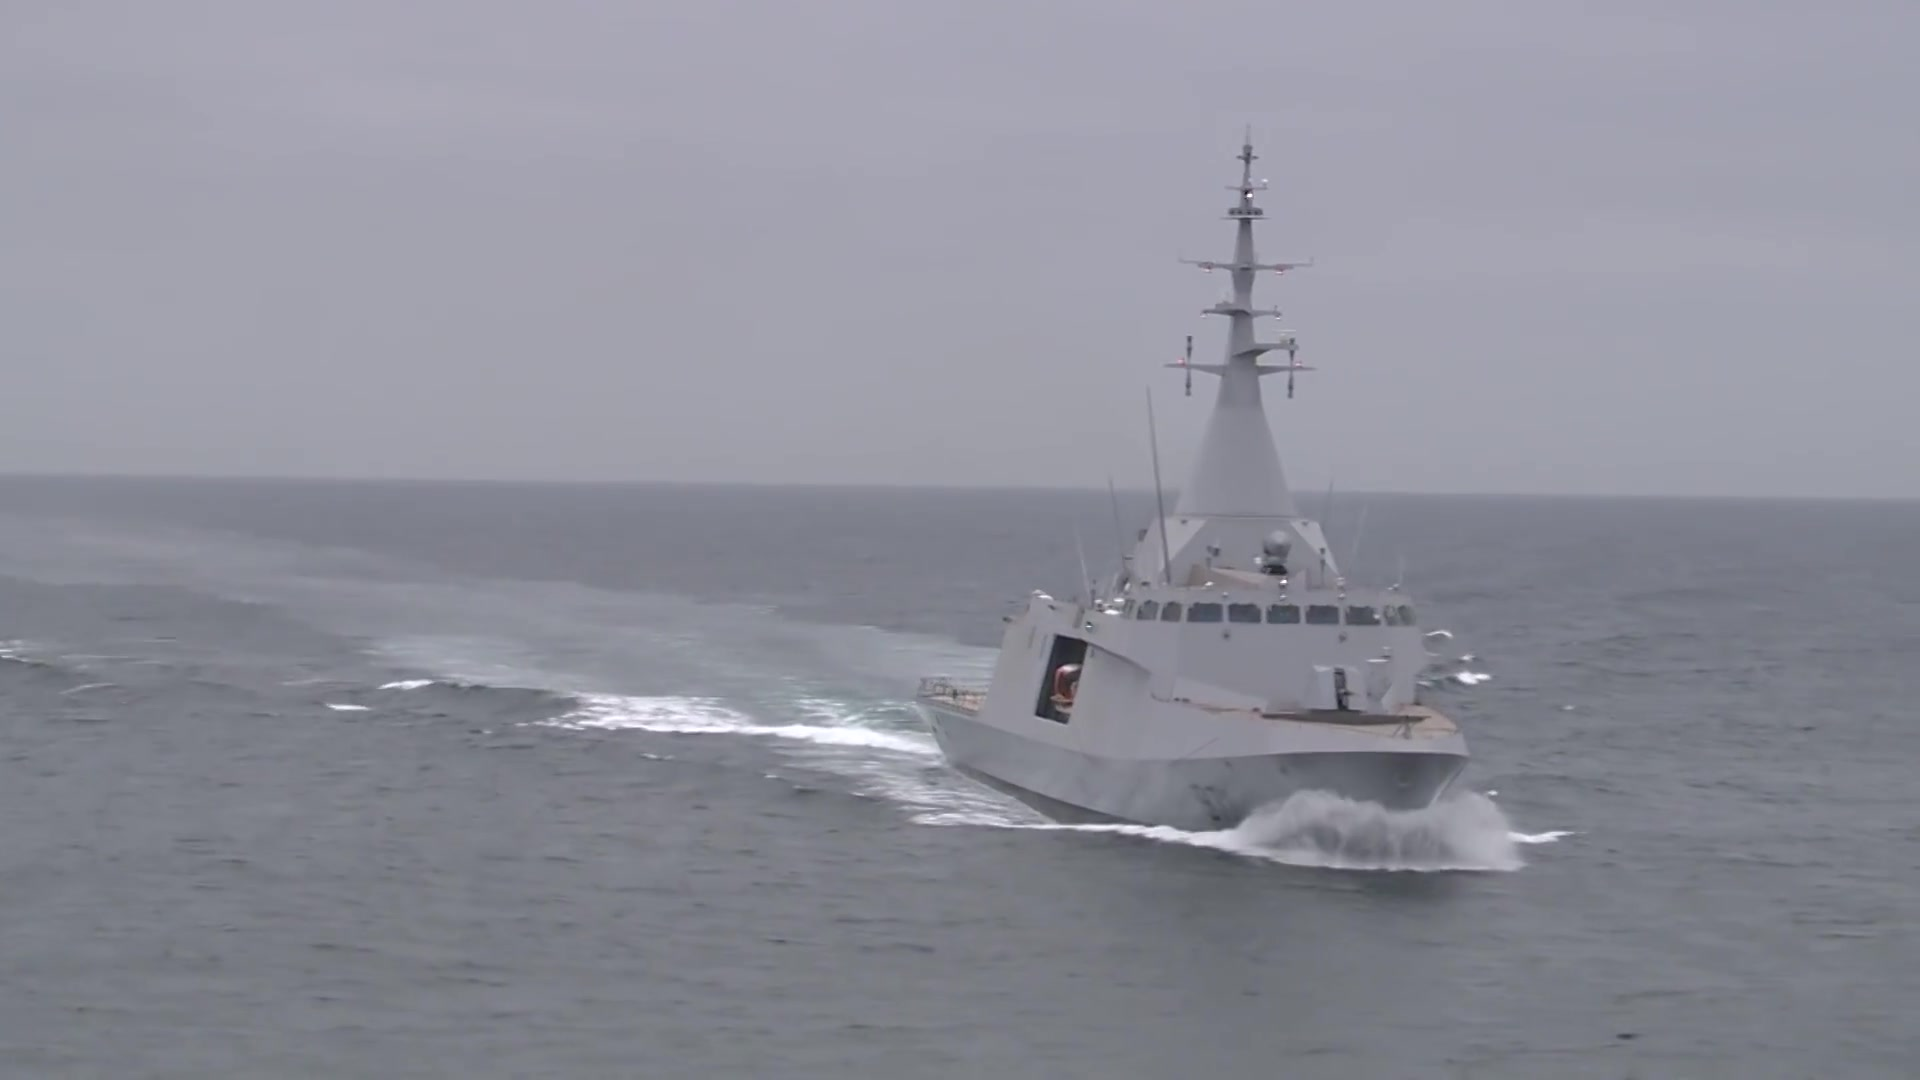WarShip: (922, 175, 1481, 858)
